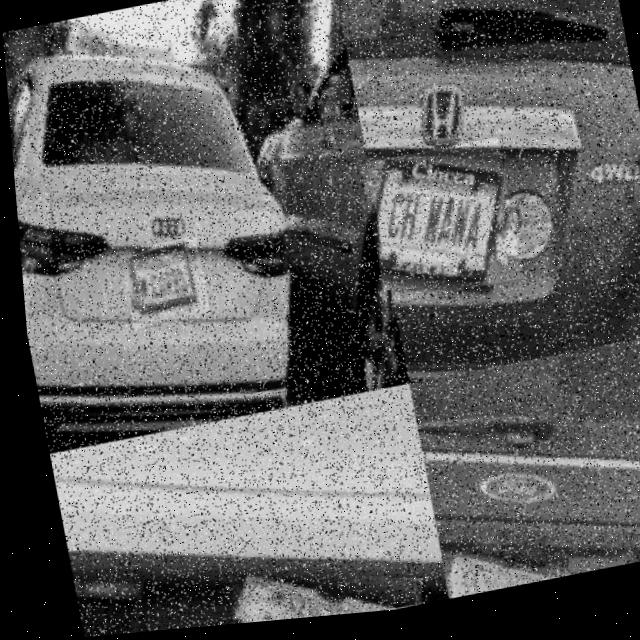LicensePlate: (373, 166, 501, 294), (114, 238, 206, 332), (221, 578, 382, 624), (436, 562, 542, 594)
